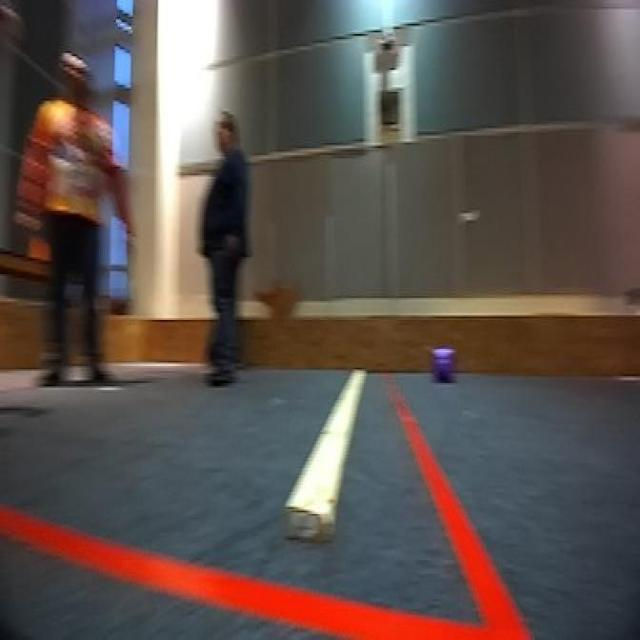frc_cube: (431, 347, 456, 385)
